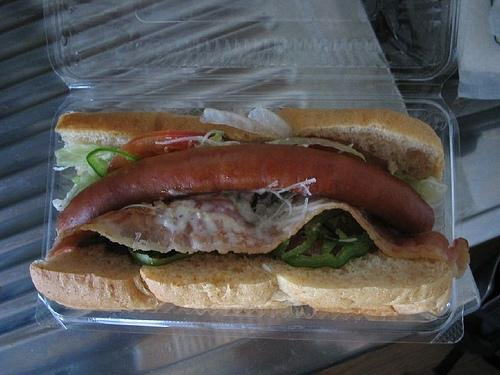lettuce: (52, 144, 103, 212), (264, 137, 366, 162), (393, 173, 449, 204), (248, 106, 293, 138), (203, 130, 225, 146)
tomato: (106, 130, 207, 174)
